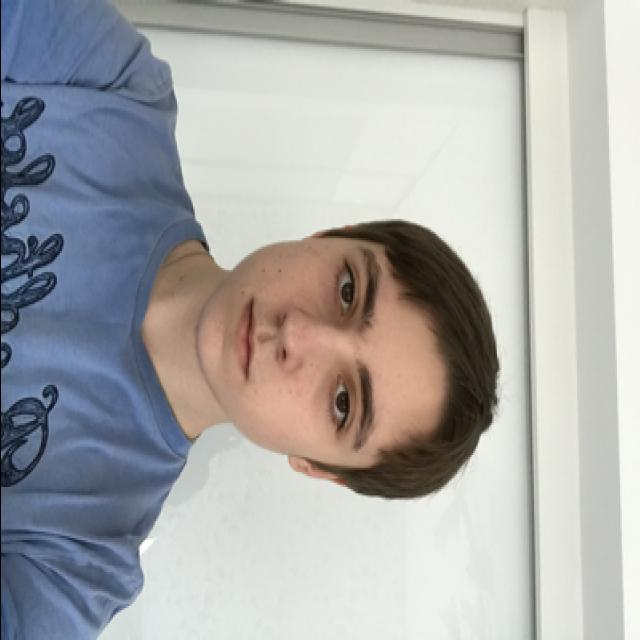no_mask: (195, 238, 398, 462)
